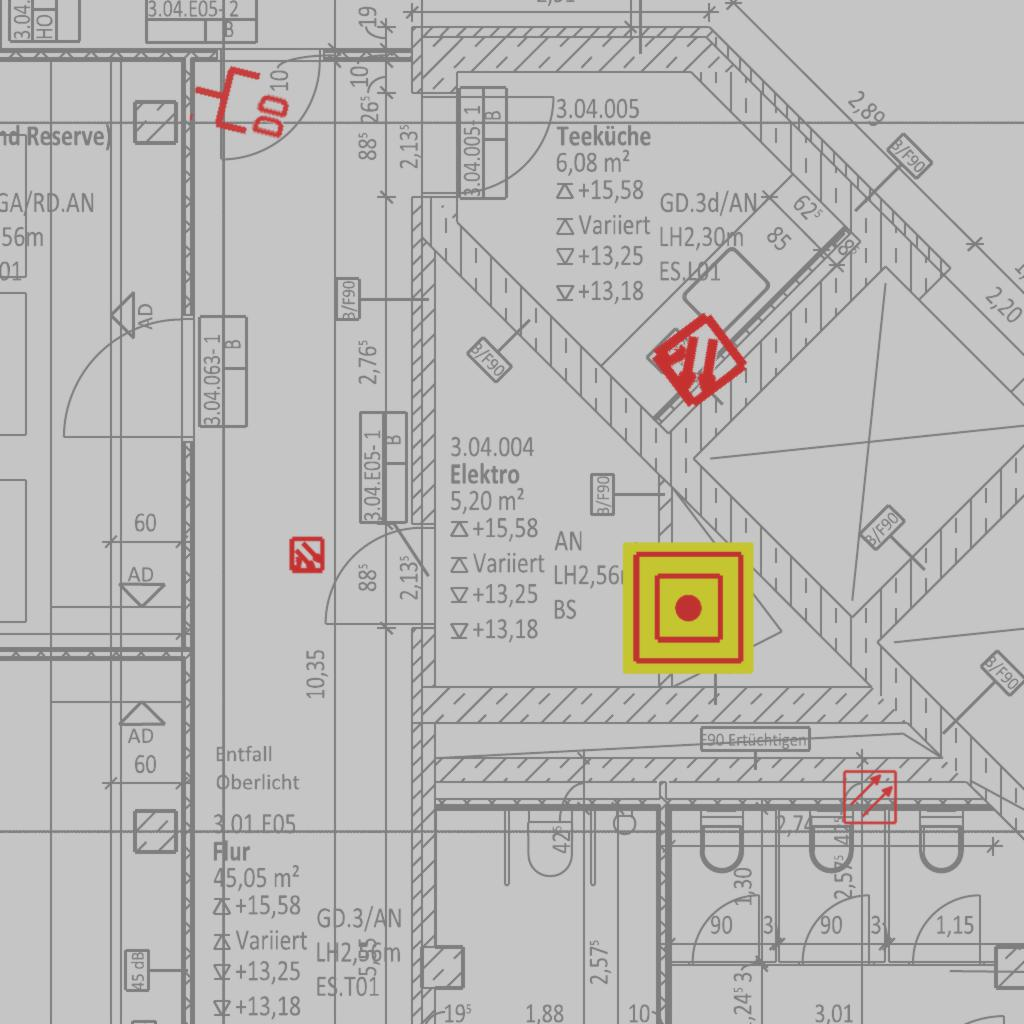Datenanschluss_zweifach: (184, 53, 301, 146)
NAM-Nichtautomatischer_Melder: (622, 542, 754, 674)
OT_Multisensormelder_(Kombination_RMO_WMD): (618, 282, 777, 441), (279, 528, 335, 584)
RMO_Rauchmelder_optischer: (842, 769, 898, 825)
